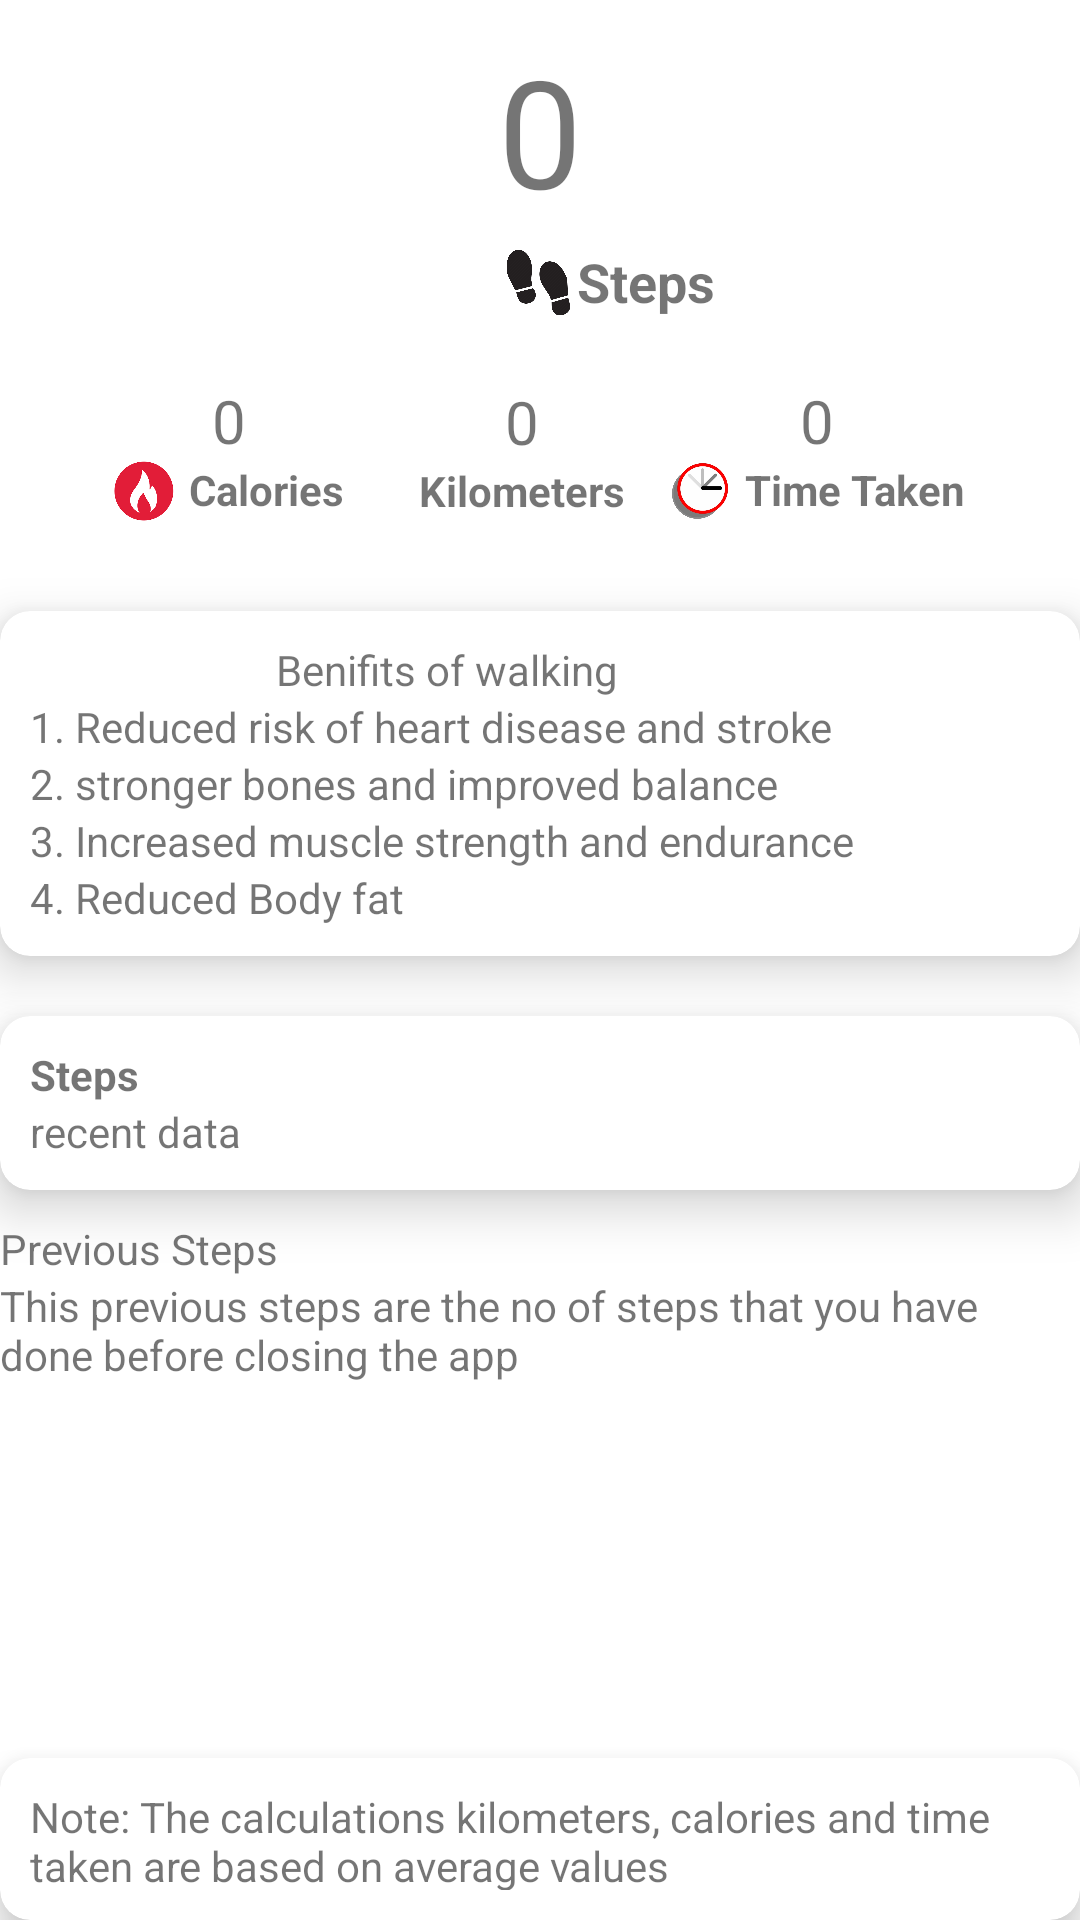

Point at icon controls on the screen. Image size 1080x1920, points as [x,y].
clocktime: [700,491]
